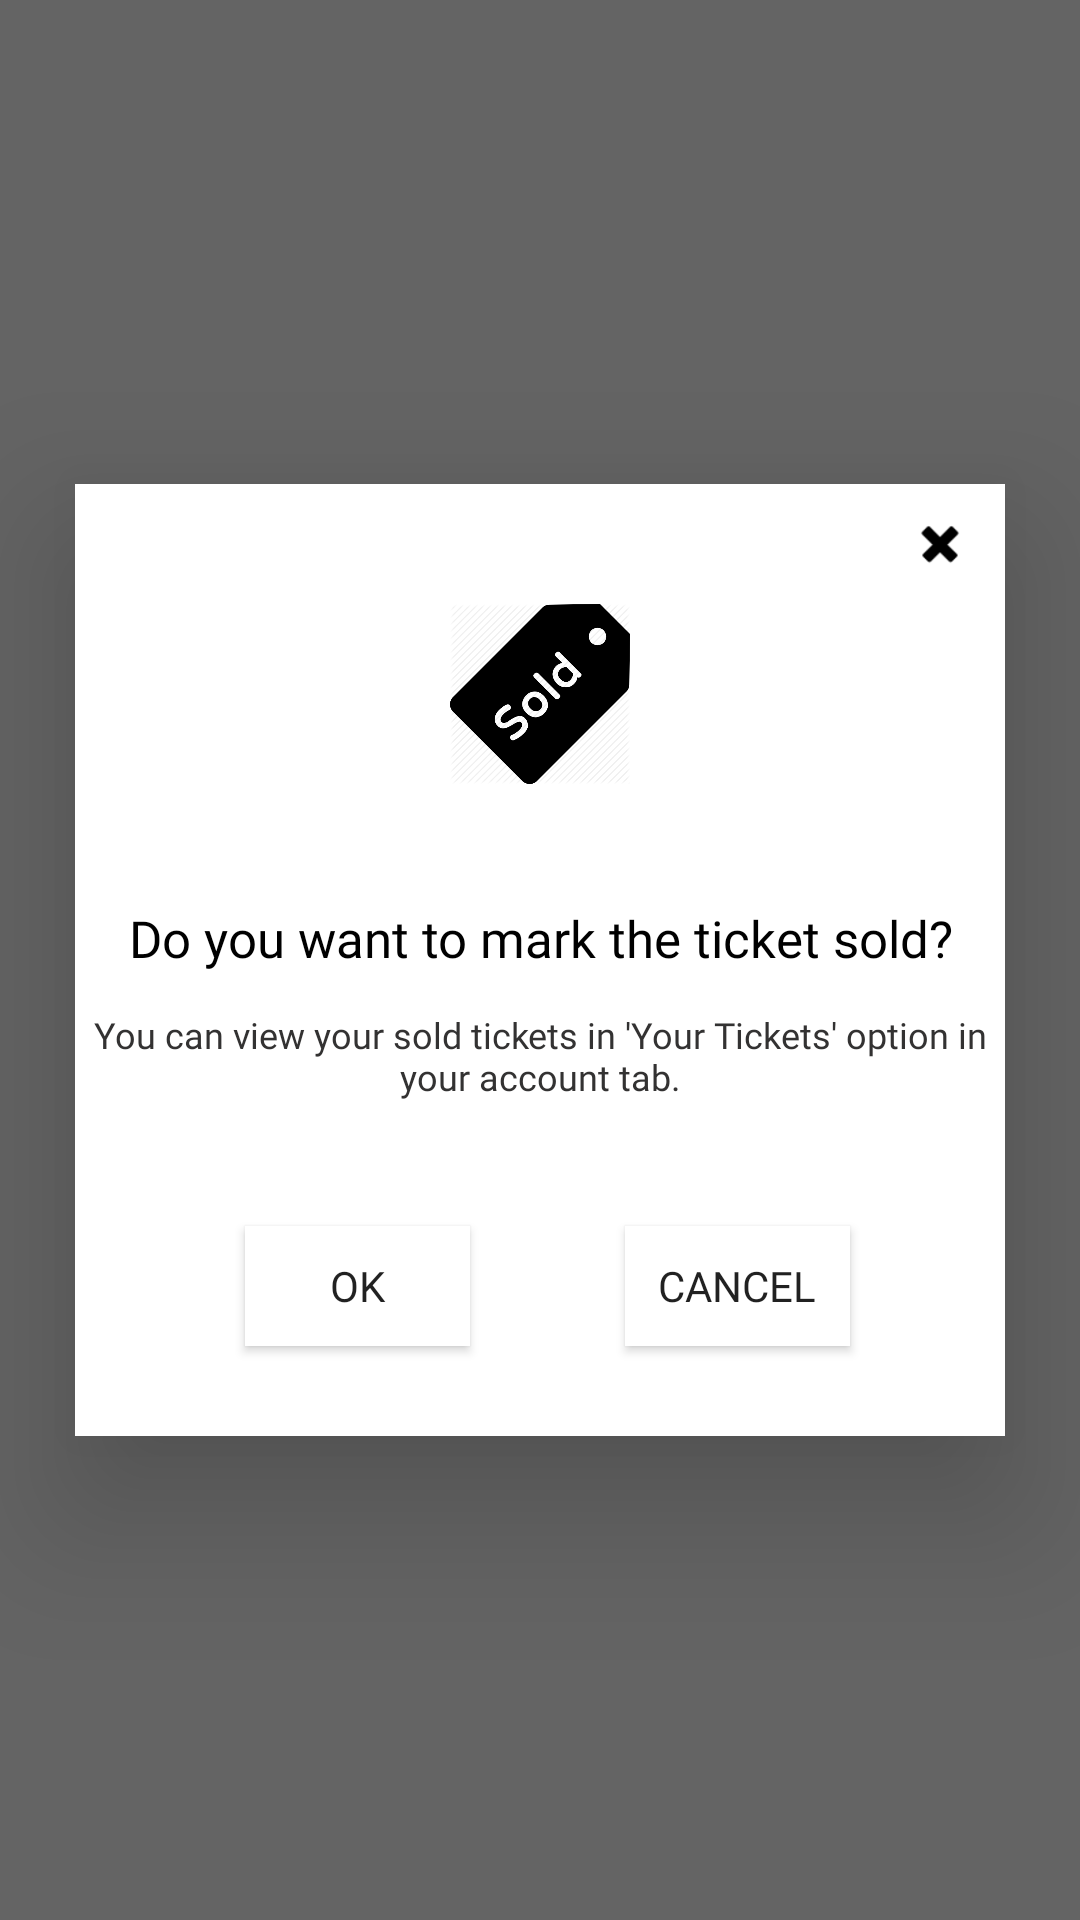

Icons on this 1080px×1920px Android screen, each with its box as (x1,y1,x2,y2):
delete: (921,526,959,563)
soldout: (450,604,630,784)
